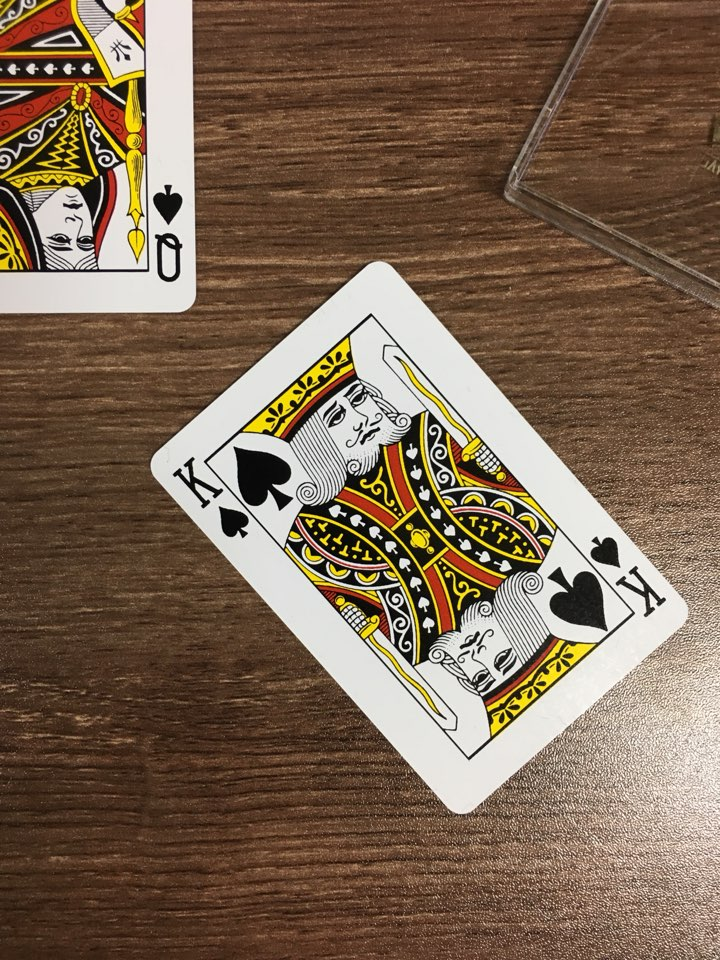king: (147, 246, 701, 829)
queen: (1, 1, 236, 339)
